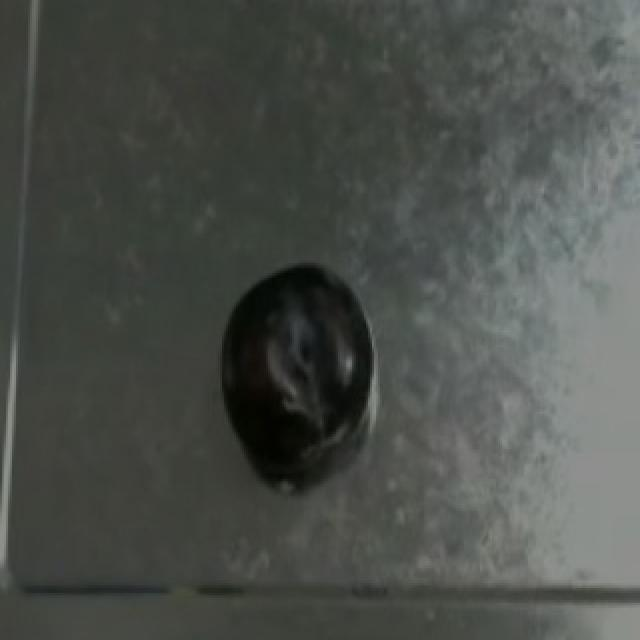Fruit: (244, 256, 374, 442)
